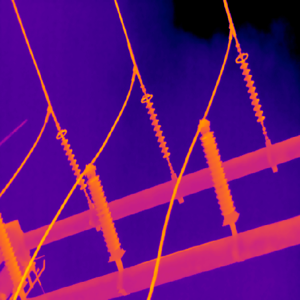insulator: (199, 120, 234, 215), (85, 172, 120, 255), (235, 51, 265, 121), (58, 130, 86, 190), (0, 213, 23, 286), (143, 96, 170, 158)
